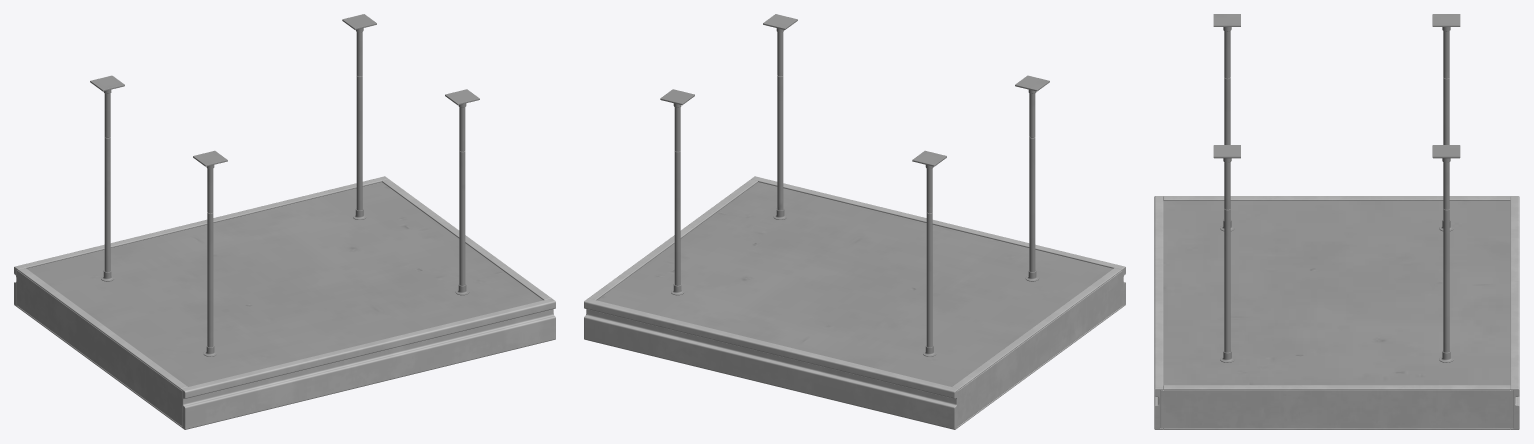
File: lamp_ceiling_50cm_square_a01.glb
3 renders of one model, left to right at view 1: azimuth 30°, elevation 25°; view 2: azimuth 150°, elevation 25°; view 3: azimuth 270°, elevation 25°, orthographic. The views are drawn at different scales.
Parts seen in each view (by area): view 1: ceilinglamp_01_mesh_00; view 2: ceilinglamp_01_mesh_00; view 3: ceilinglamp_01_mesh_00.
Boxes of the visible parts, left/top/right/bottom form: ceilinglamp_01_mesh_00: left=14, top=14, right=555, bottom=429; ceilinglamp_01_mesh_00: left=584, top=14, right=1125, bottom=429; ceilinglamp_01_mesh_00: left=1154, top=14, right=1519, bottom=429.
Size of the model in its own units: 0.5 by 0.3 by 0.4.
3 materials, 3 textured.
